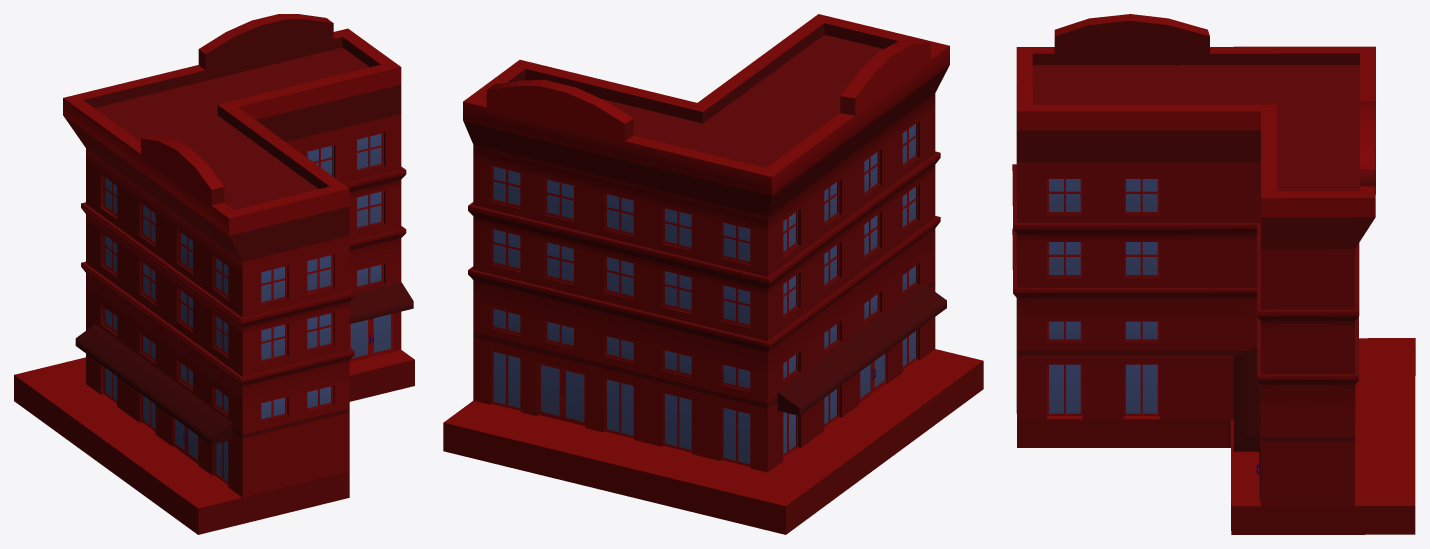
The model's file is buildings-business-commercialbuilding_v1.fbx.
3 views of the same model, side by side, from view 1: azimuth 30°, elevation 25°; view 2: azimuth 150°, elevation 25°; view 3: azimuth 270°, elevation 25° (orthographic). The views are drawn at different scales.
Parts seen in each view (by area): view 1: CommercialBuilding_v1_base, CommercialBuilding_v1_windowRefl, CommercialBuilding_v1_color; view 2: CommercialBuilding_v1_base, CommercialBuilding_v1_windowRefl, CommercialBuilding_v1_color; view 3: CommercialBuilding_v1_base, CommercialBuilding_v1_windowRefl, CommercialBuilding_v1_color.
Part boxes in pixels (x1,y1,x2,y2): CommercialBuilding_v1_base: [14, 14, 414, 534]; CommercialBuilding_v1_windowRefl: [105, 133, 390, 481]; CommercialBuilding_v1_color: [75, 282, 413, 444]; CommercialBuilding_v1_base: [443, 14, 983, 534]; CommercialBuilding_v1_windowRefl: [493, 124, 915, 463]; CommercialBuilding_v1_color: [777, 284, 946, 415]; CommercialBuilding_v1_base: [1012, 14, 1415, 534]; CommercialBuilding_v1_windowRefl: [1049, 179, 1157, 413]; CommercialBuilding_v1_color: [1233, 347, 1260, 451].
Bounding box in the file's own units: 23.58 × 24.02 × 23.65.
